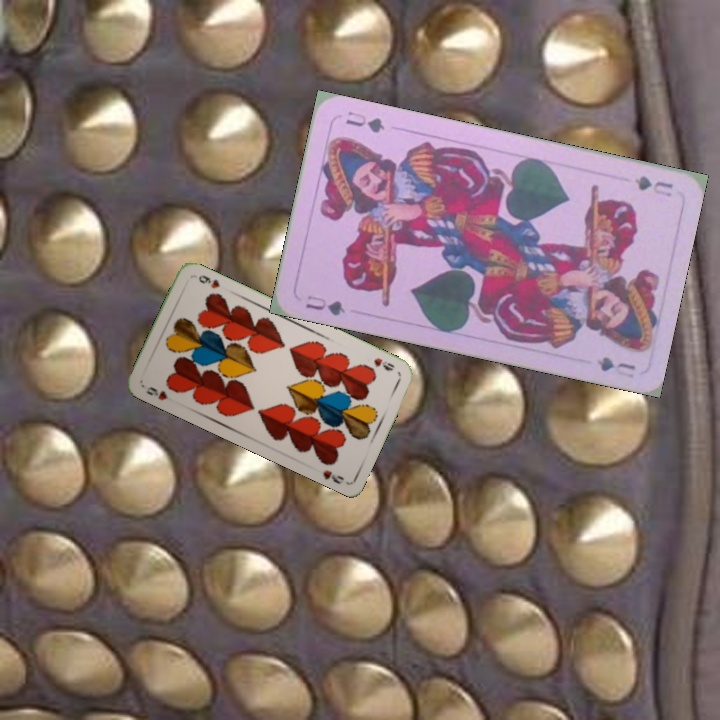GU: (302, 291, 348, 319), (630, 171, 675, 199)
H9: (142, 382, 170, 403), (369, 353, 397, 374)
